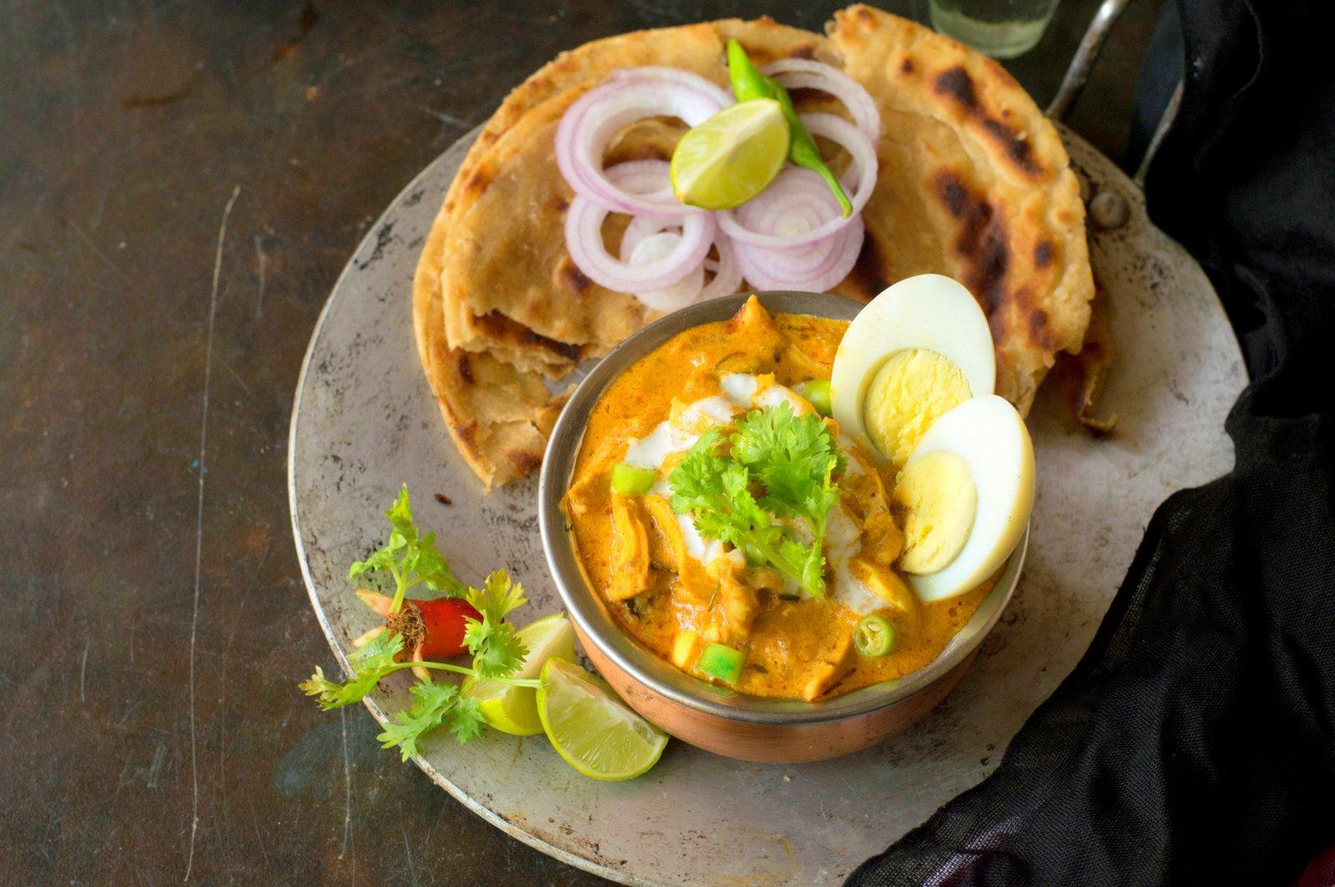chicken: (598, 335, 912, 694)
roti: (412, 9, 1093, 487)
